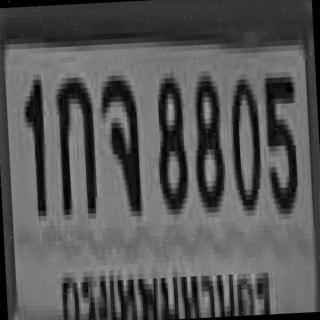A01: (53, 72, 96, 210)
A08: (99, 69, 140, 213)
N00: (228, 74, 261, 206)
N01: (21, 74, 46, 212)
N05: (262, 72, 299, 210)
N08: (152, 72, 188, 210), (190, 70, 223, 208)
P04: (59, 248, 274, 320)
